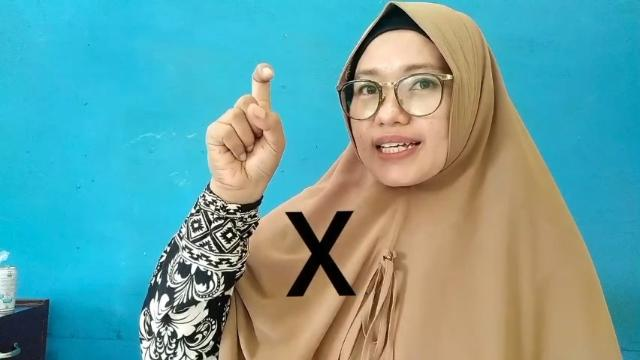X: (202, 62, 288, 192)
